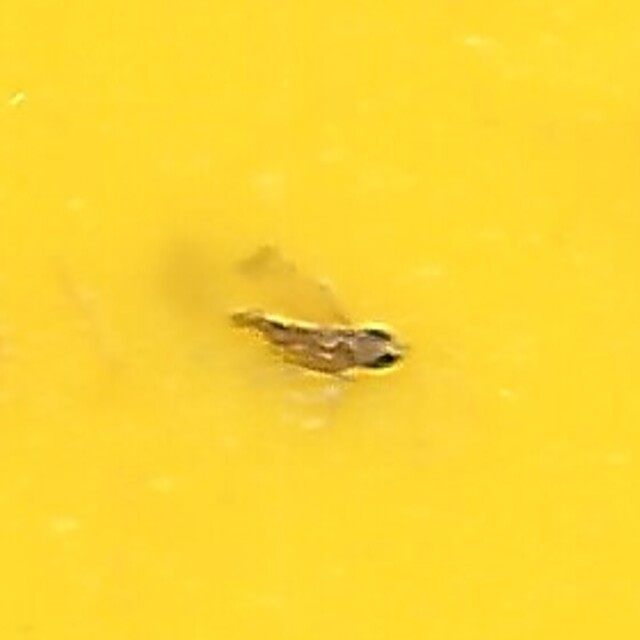Hemiptera: (229, 239, 411, 401)
